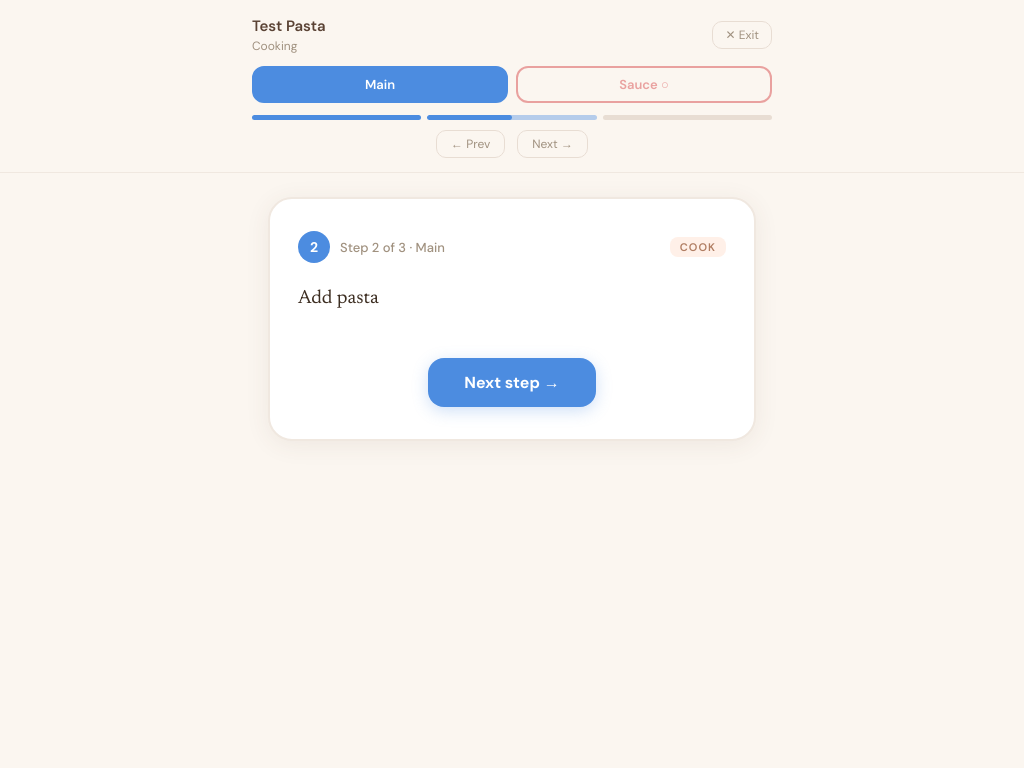
Test: CookingView › step review navigation › current step timer toast pill › clicking View on done current step pill navigates back to current step instead of switching track
Step 1. Click the button "← Prev" → (471, 144), box [436,130,505,158]
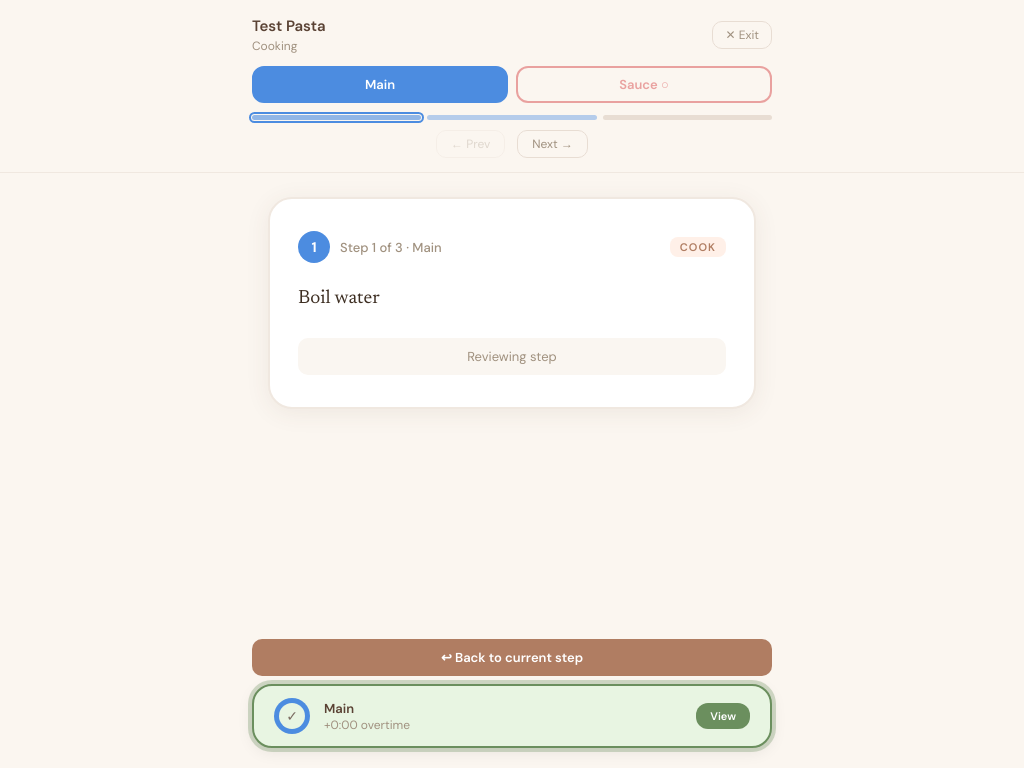
Step 2. Click the button "View" → (723, 716), box [696,703,750,729]
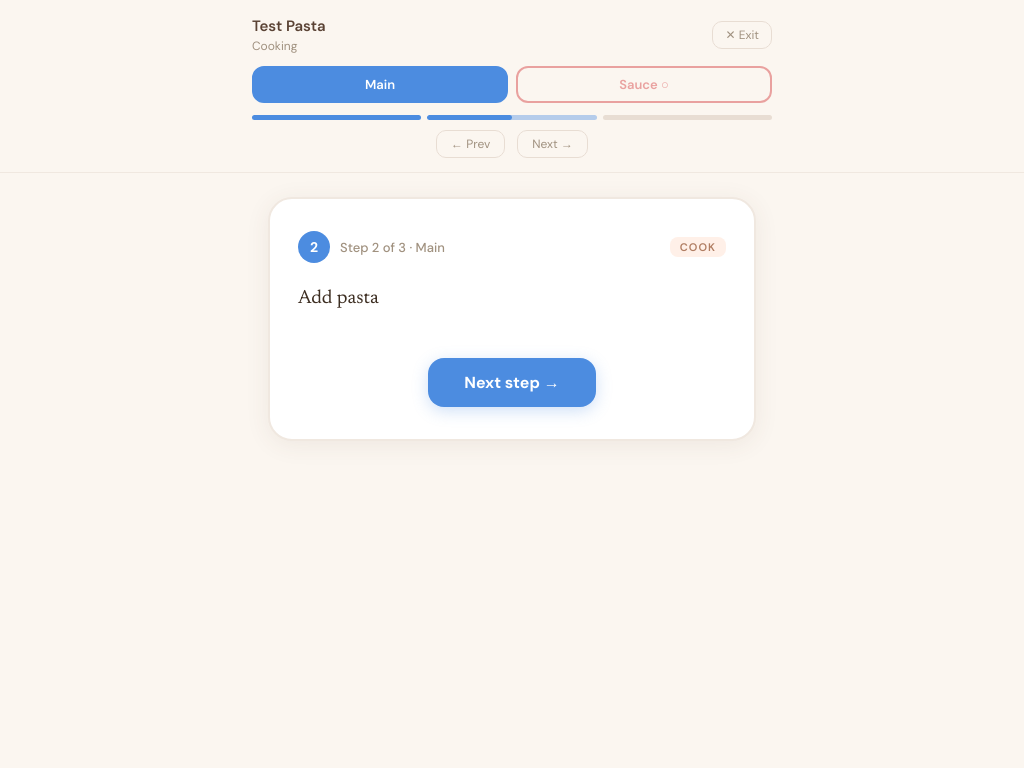
Expected: the text "Add pasta" is shown, [298,289,379,308]
